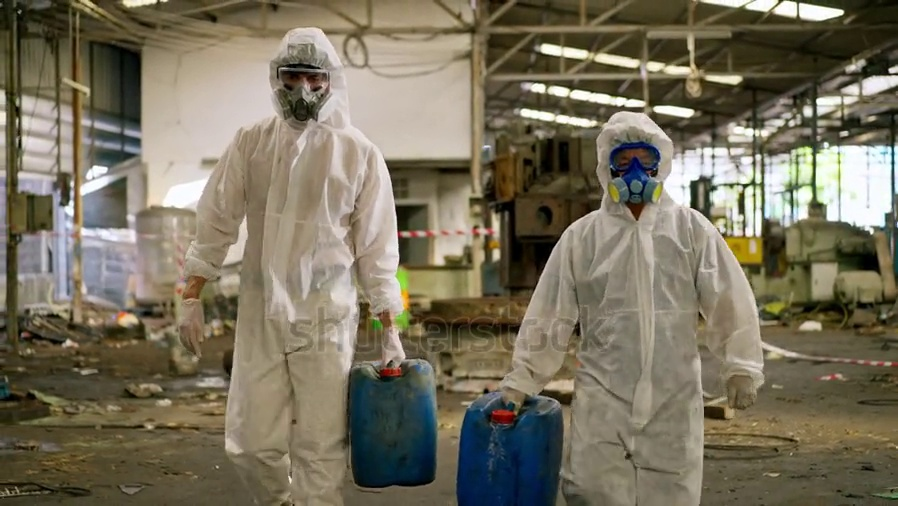mask: (605, 165, 663, 206), (279, 84, 331, 122)
person: (176, 25, 408, 506), (497, 109, 765, 502)
